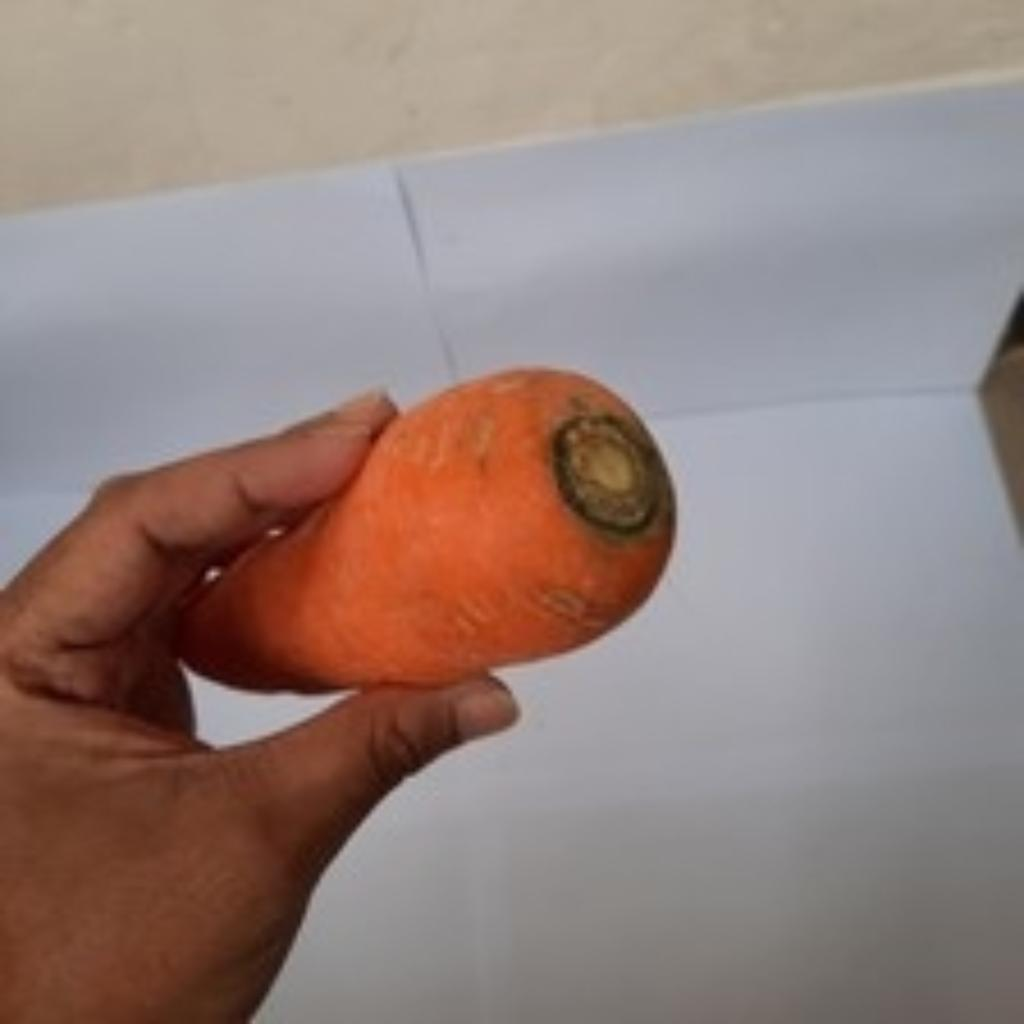carrot: (178, 366, 667, 681)
